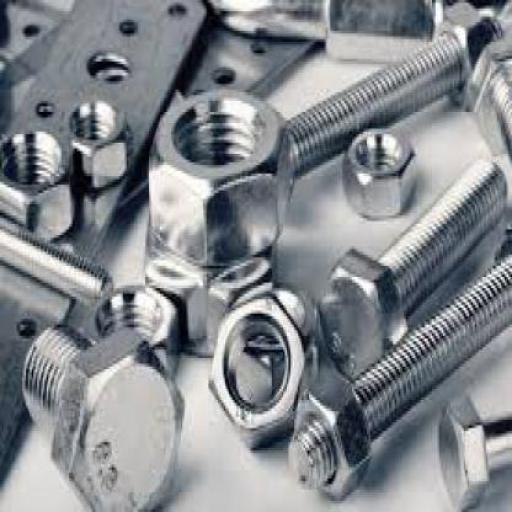metal: (1, 0, 203, 490), (285, 252, 510, 489), (311, 154, 506, 380), (117, 11, 315, 204), (283, 14, 502, 174), (18, 322, 181, 509), (147, 86, 289, 266), (142, 216, 276, 358), (206, 288, 304, 450), (78, 282, 180, 390), (290, 378, 367, 501), (0, 123, 75, 244), (438, 398, 510, 510), (59, 94, 131, 184), (343, 125, 415, 213), (439, 0, 490, 112), (469, 36, 511, 157)
